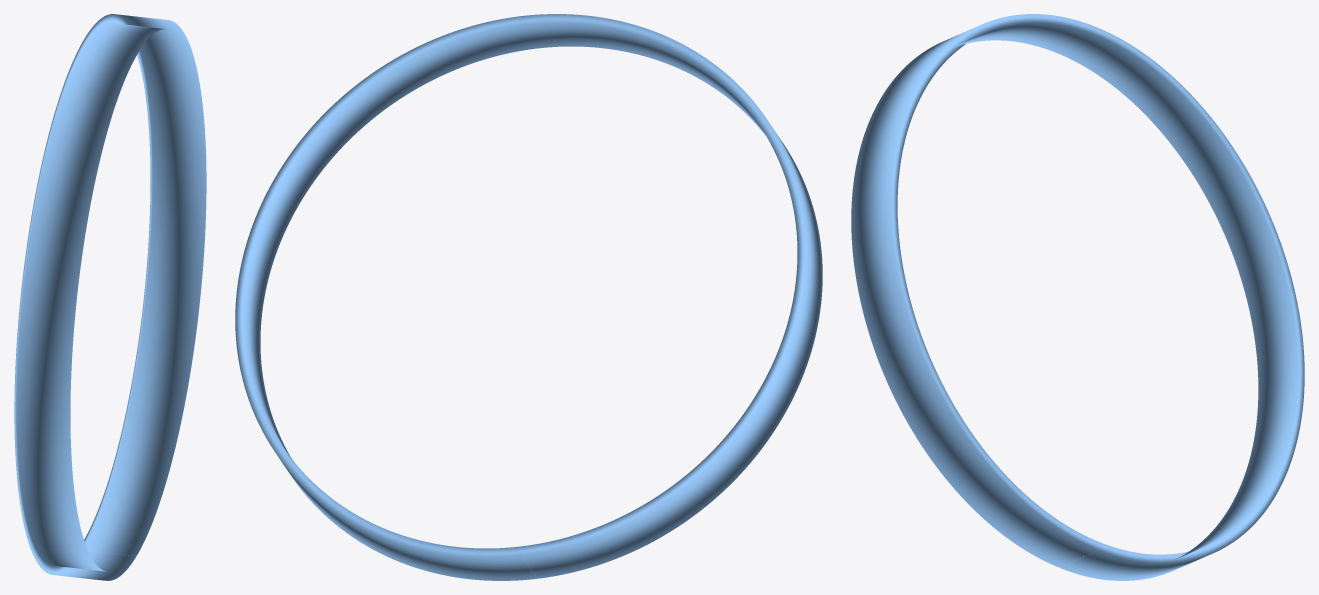
The model's file is coil_coil_5_tube.gltf.
3 renders of one model, left to right at view 1: azimuth 30°, elevation 25°; view 2: azimuth 150°, elevation 25°; view 3: azimuth 270°, elevation 25°, orthographic. The views are drawn at different scales.
Visible parts, largest first — view 1: Renderer Node; view 2: Renderer Node; view 3: Renderer Node.
Boxes of the visible parts, x1=… form: Renderer Node: x1=14, y1=14, x2=206, y2=580; Renderer Node: x1=235, y1=14, x2=822, y2=580; Renderer Node: x1=851, y1=14, x2=1304, y2=580.
Size of the model in its own units: 0.4682 by 0.6102 by 0.4792.
